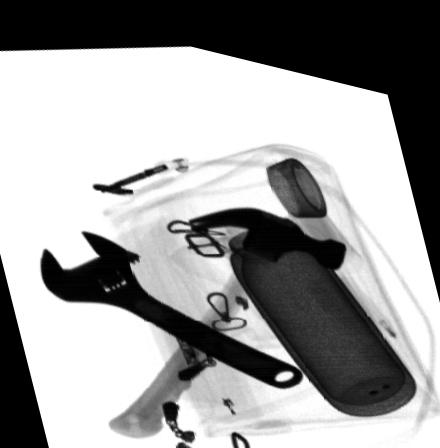Hammer: (106, 195, 349, 433)
Wrench: (41, 227, 302, 376)
